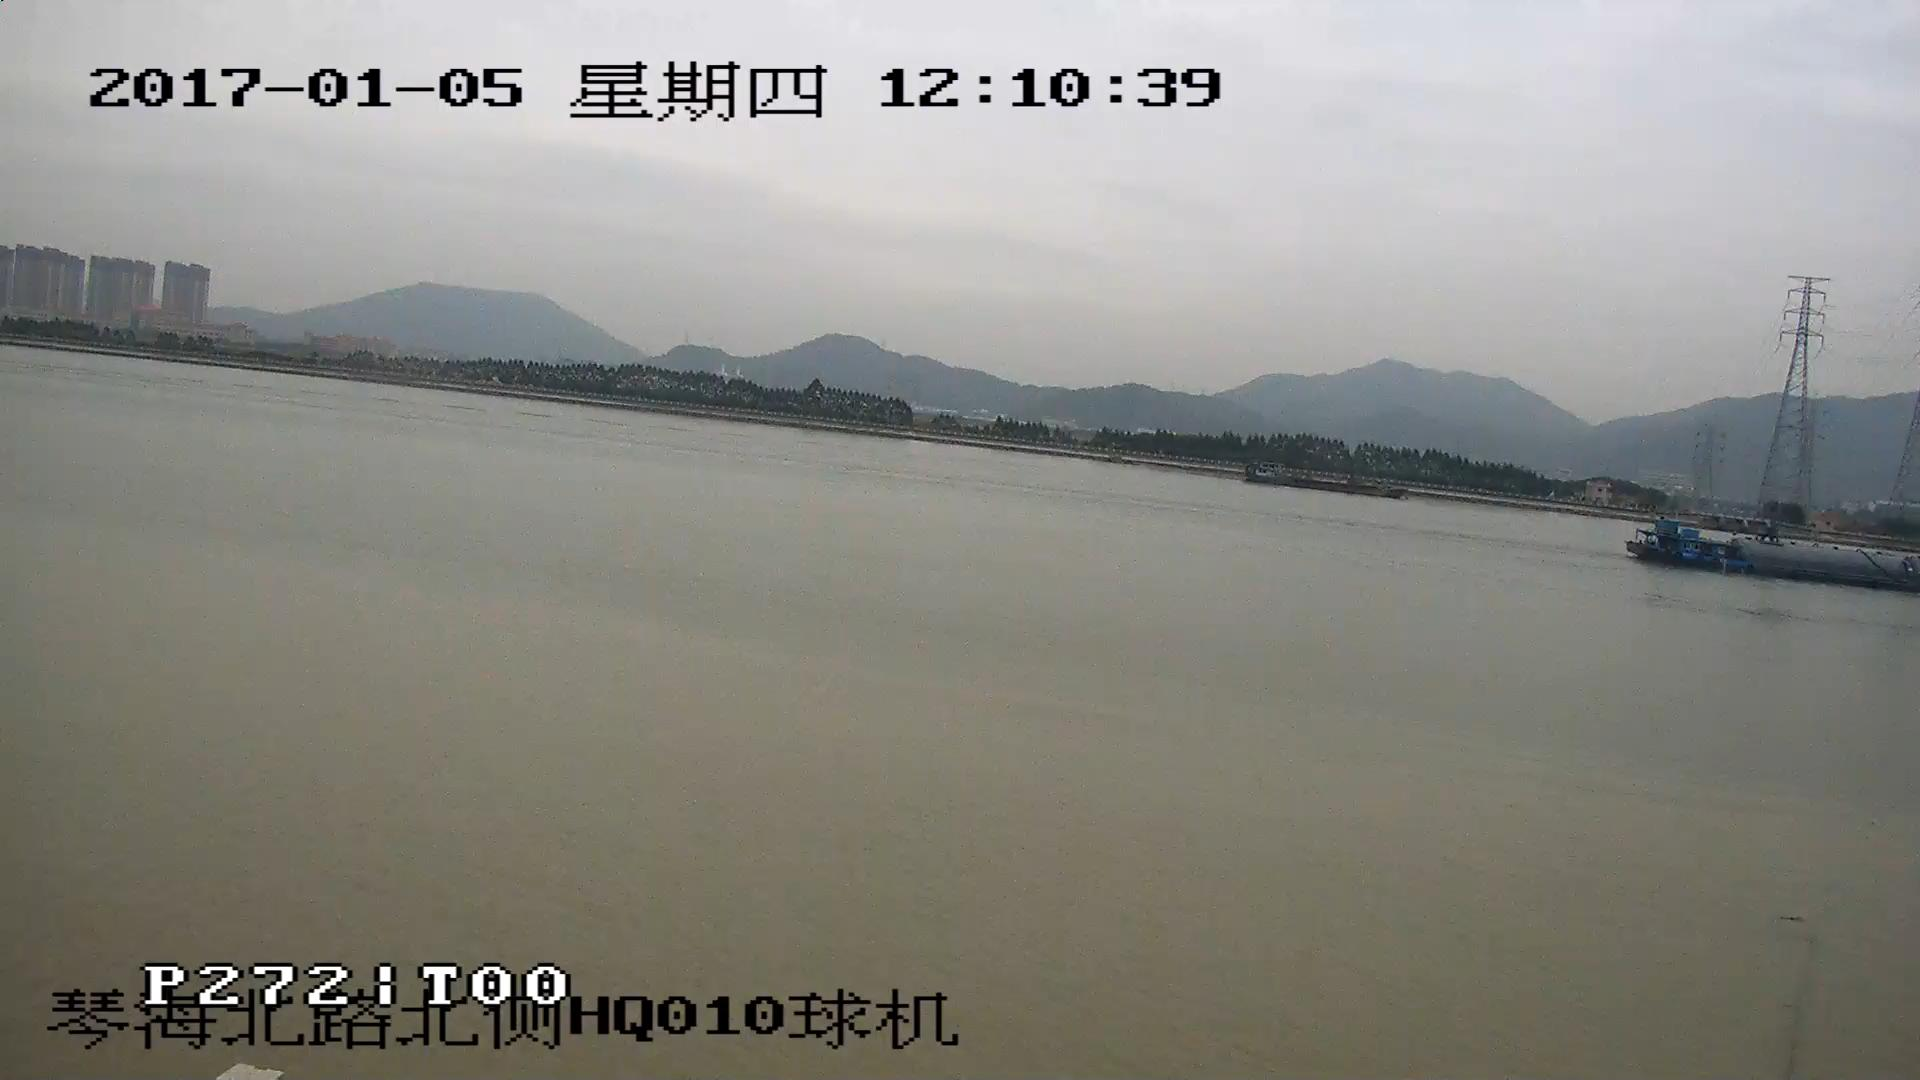bulk cargo carrier: (1626, 526, 1920, 598)
